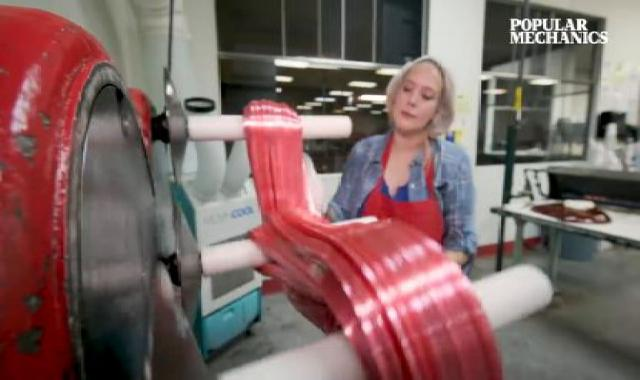hairnet: (366, 56, 496, 148)
